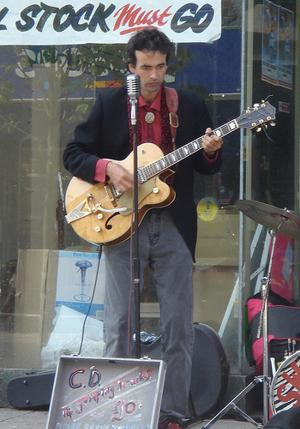person: (63, 30, 225, 427)
